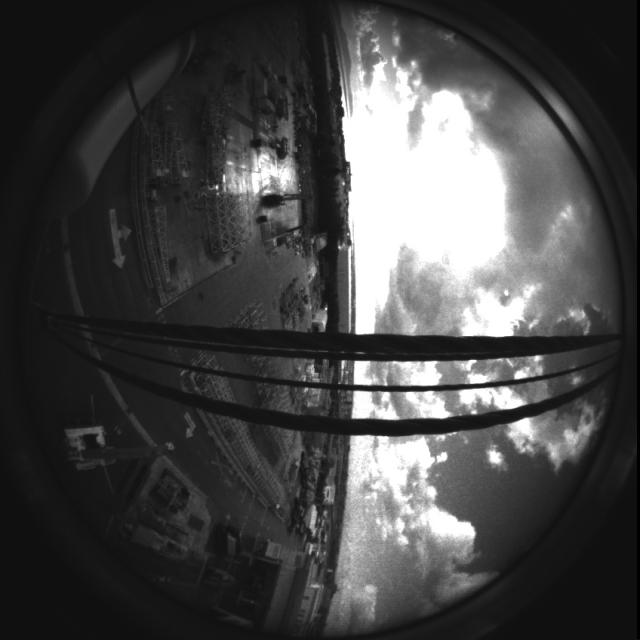rope: (11, 298, 638, 443)
sky: (324, 2, 620, 637)
